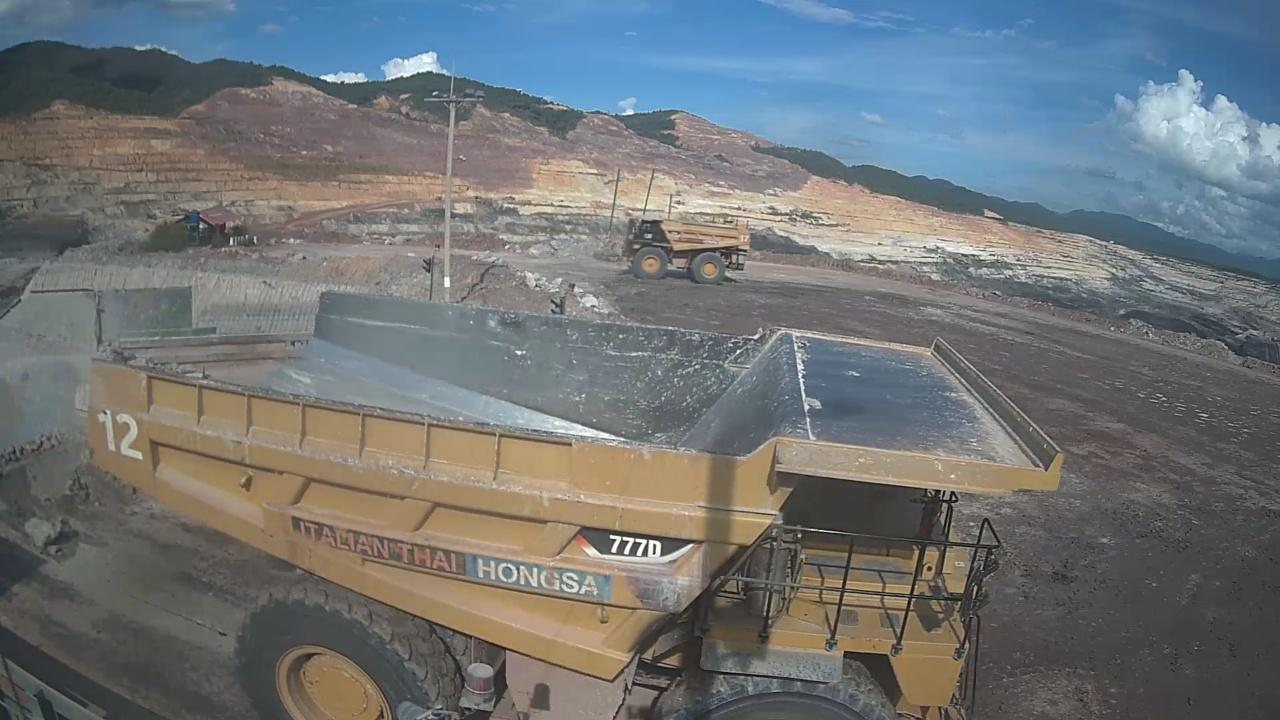company: (287, 510, 610, 604)
empty_load: (286, 303, 786, 487)
mining_truck: (74, 285, 1064, 718)
tail_number: (92, 407, 148, 464)
truck_size: (598, 524, 676, 569)
